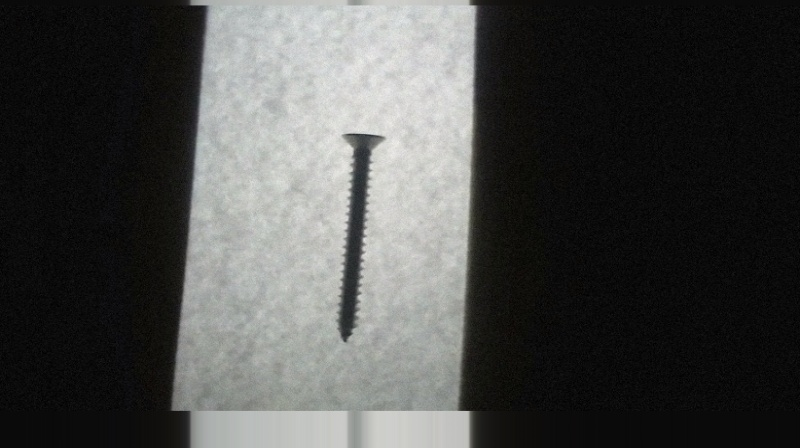S002: (332, 129, 390, 345)
